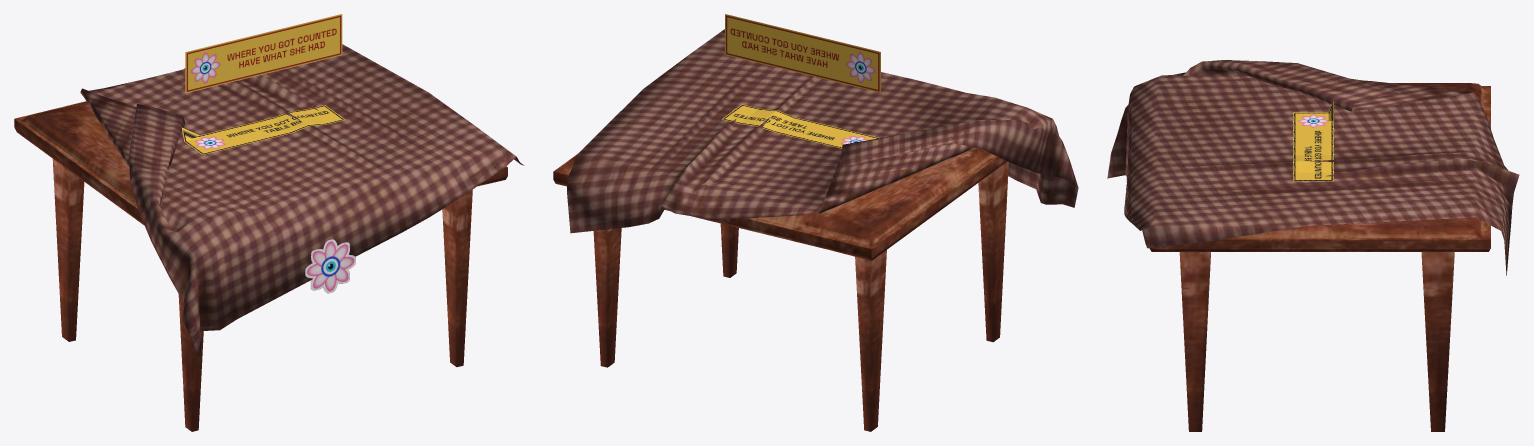
The model's file is nyb_katz_table.glb.
3 renders of one model, left to right at view 1: azimuth 30°, elevation 25°; view 2: azimuth 150°, elevation 25°; view 3: azimuth 270°, elevation 25°, orthographic.
Visible parts, largest first — view 1: dining_table, add_lbl_b4576d7ed5.png, stk_lbl_e090fd4e67.png, stk_eyeflower_die.png; view 2: dining_table, add_lbl_b4576d7ed5.png, stk_lbl_e090fd4e67.png; view 3: dining_table, stk_lbl_e090fd4e67.png.
Boxes of the visible parts, <box> form: dining_table: <box>14,44,524,431</box>; add_lbl_b4576d7ed5.png: <box>185,14,342,93</box>; stk_lbl_e090fd4e67.png: <box>182,105,345,154</box>; stk_eyeflower_die.png: <box>305,239,355,293</box>; dining_table: <box>553,29,1078,431</box>; add_lbl_b4576d7ed5.png: <box>725,14,880,92</box>; stk_lbl_e090fd4e67.png: <box>722,104,879,148</box>; dining_table: <box>1107,60,1519,431</box>; stk_lbl_e090fd4e67.png: <box>1293,100,1333,181</box>.
Size of the model in its own units: 1.35 by 1.17 by 1.39.
5 materials, 5 textured.
